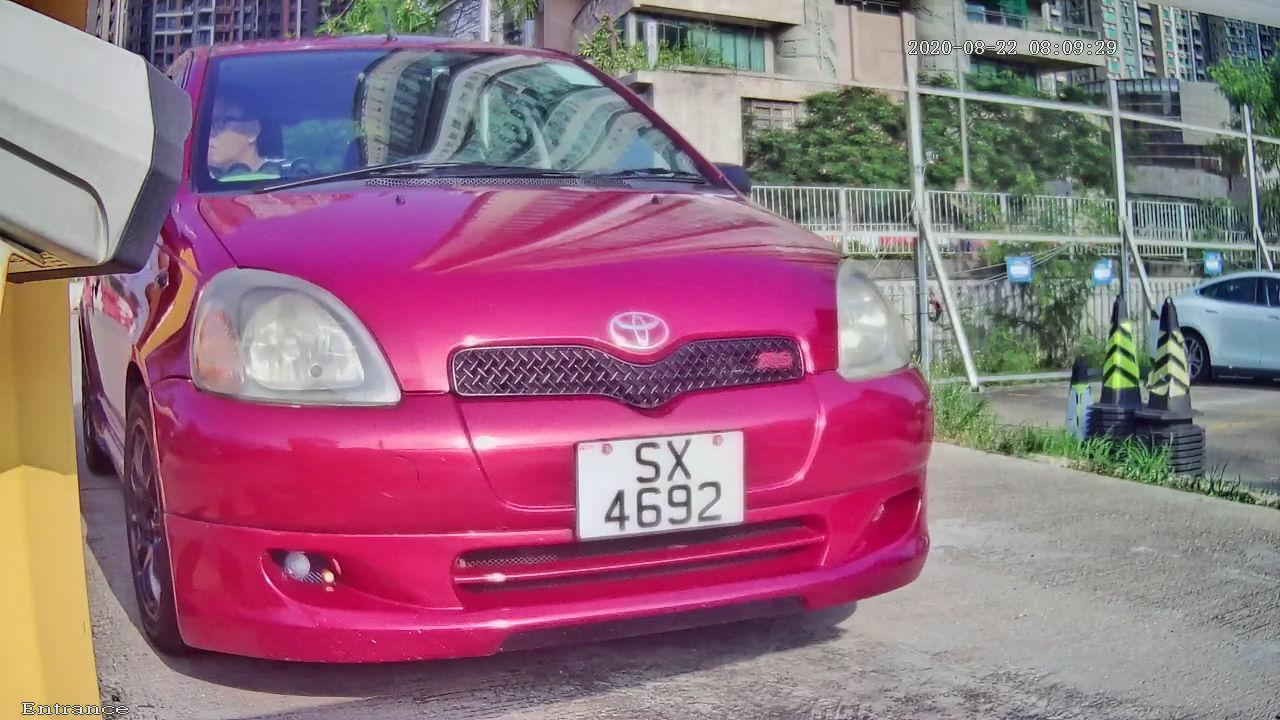Car: (12, 1, 1029, 720)
License Plate: (555, 415, 755, 557)
